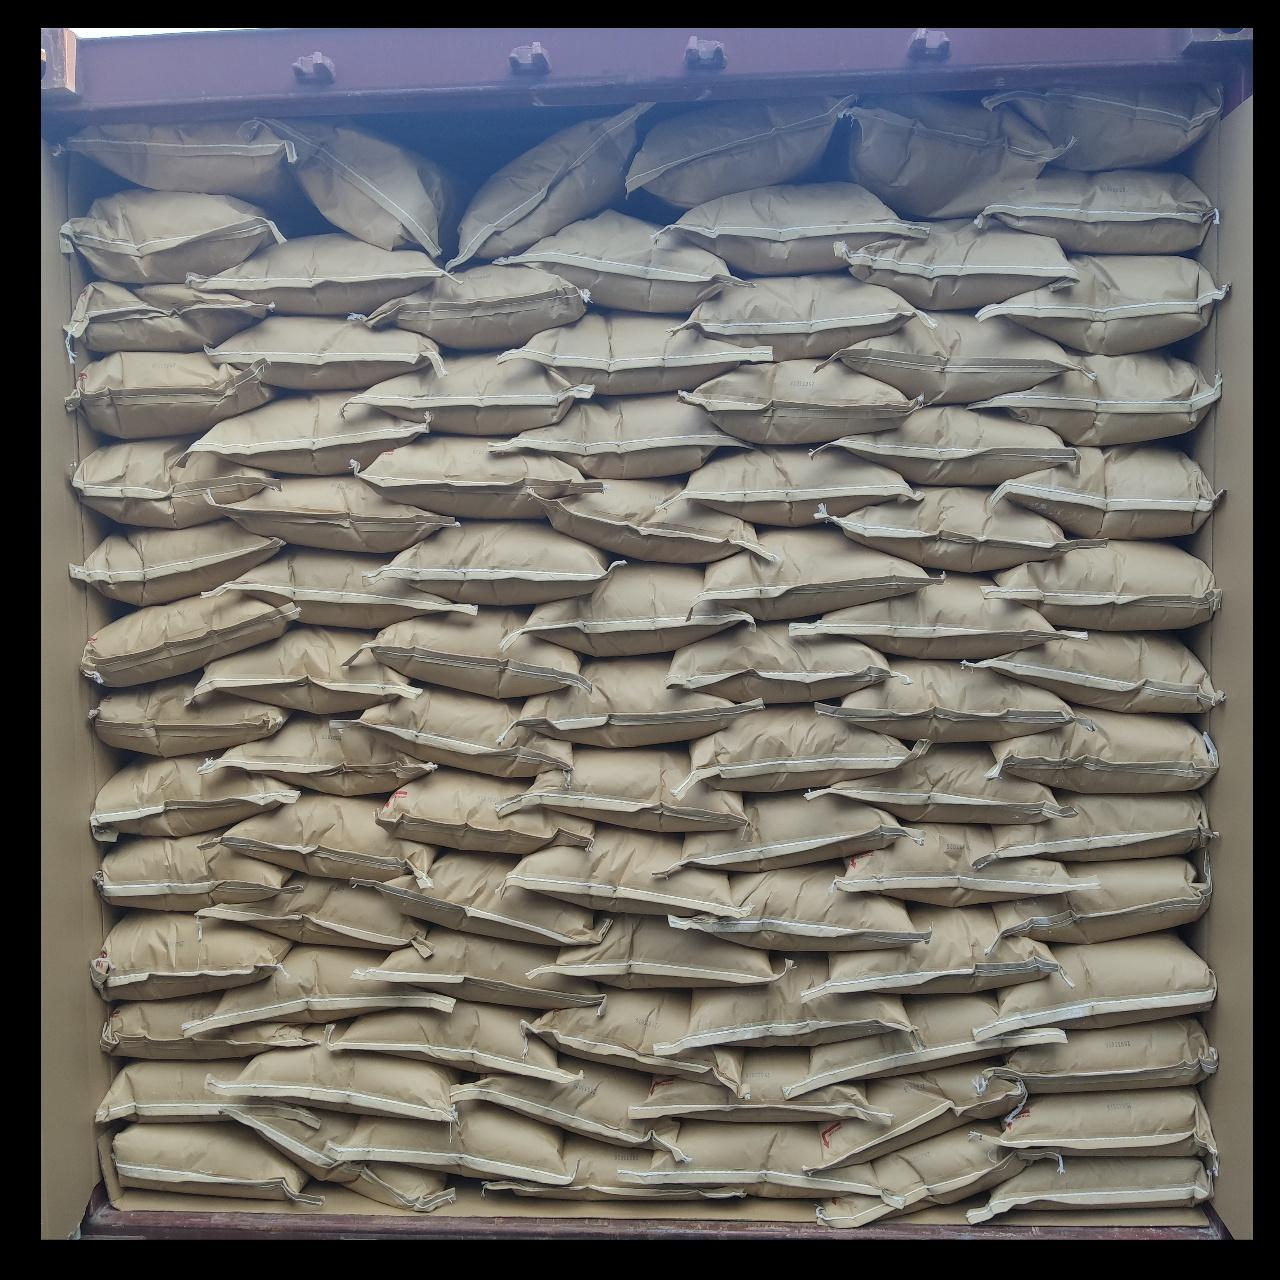sack: (456, 113, 644, 263), (830, 100, 1070, 216), (790, 992, 1062, 1094), (624, 96, 856, 210), (804, 904, 1054, 1002), (496, 210, 730, 314), (792, 574, 1084, 658), (290, 125, 476, 256), (663, 182, 924, 274), (215, 1022, 464, 1118), (978, 256, 1224, 350), (821, 1122, 1036, 1230), (971, 350, 1218, 444), (186, 944, 454, 1030), (358, 850, 602, 942), (662, 956, 904, 1050), (506, 826, 750, 918), (454, 1060, 682, 1156), (992, 932, 1214, 1030), (836, 314, 1078, 404), (672, 862, 920, 949), (816, 1062, 1024, 1166), (210, 546, 474, 628), (818, 488, 1074, 572), (988, 444, 1218, 538), (238, 1110, 454, 1210), (72, 114, 308, 204), (516, 656, 758, 744), (520, 561, 750, 654), (702, 527, 937, 618), (972, 168, 1216, 254), (190, 232, 440, 316), (506, 312, 770, 392), (526, 988, 742, 1085), (490, 394, 745, 476), (64, 188, 282, 284), (844, 220, 1078, 309), (606, 1121, 876, 1198), (982, 84, 1221, 170), (504, 745, 745, 830), (816, 660, 1070, 740), (986, 542, 1218, 628), (331, 1000, 576, 1082), (680, 360, 918, 444), (348, 608, 583, 694), (966, 632, 1220, 710), (836, 824, 1090, 903), (220, 792, 438, 884), (688, 706, 924, 790), (354, 264, 588, 348), (804, 744, 1060, 822), (813, 408, 1073, 484), (356, 436, 595, 518), (358, 926, 604, 1006), (350, 352, 590, 434), (186, 392, 424, 474), (192, 626, 420, 712), (82, 594, 292, 686), (549, 478, 772, 564), (682, 274, 912, 358), (382, 522, 614, 604), (990, 856, 1210, 942), (328, 1102, 566, 1182), (352, 688, 572, 774), (377, 768, 592, 855), (666, 622, 898, 702), (202, 714, 433, 794), (992, 708, 1216, 790), (632, 1048, 881, 1121), (70, 440, 275, 526), (538, 914, 787, 986), (680, 448, 912, 524), (198, 872, 424, 949), (680, 794, 906, 870), (992, 1016, 1214, 1092), (226, 476, 454, 550), (94, 912, 290, 998), (74, 522, 278, 604), (74, 354, 272, 438), (90, 756, 298, 836), (96, 1058, 320, 1132), (207, 316, 438, 388), (976, 792, 1212, 862), (91, 674, 288, 754), (996, 1088, 1214, 1156), (968, 1158, 1212, 1218), (114, 1124, 309, 1198), (96, 835, 288, 910), (102, 994, 322, 1058), (72, 284, 268, 352), (482, 1133, 688, 1198)
